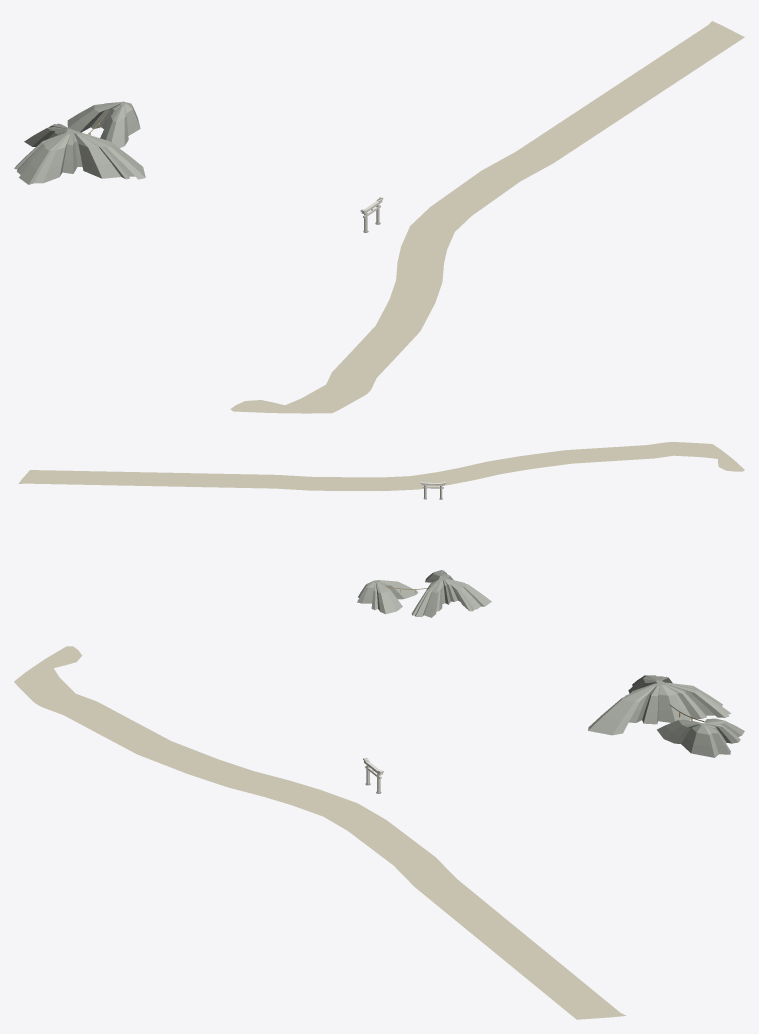
3 renders of one model, top to bottom at view 1: azimuth 30°, elevation 25°; view 2: azimuth 150°, elevation 25°; view 3: azimuth 270°, elevation 25°, orthographic. The views are drawn at different scales.
Parts seen in each view (by area): view 1: futamigaura-torii; view 2: futamigaura-torii; view 3: futamigaura-torii.
Part boxes in pixels (x1,y1,x2,y2): futamigaura-torii: [14, 21, 744, 413]; futamigaura-torii: [18, 442, 744, 617]; futamigaura-torii: [14, 646, 744, 1019].
Size of the model in its own units: 304 by 11 by 252.
